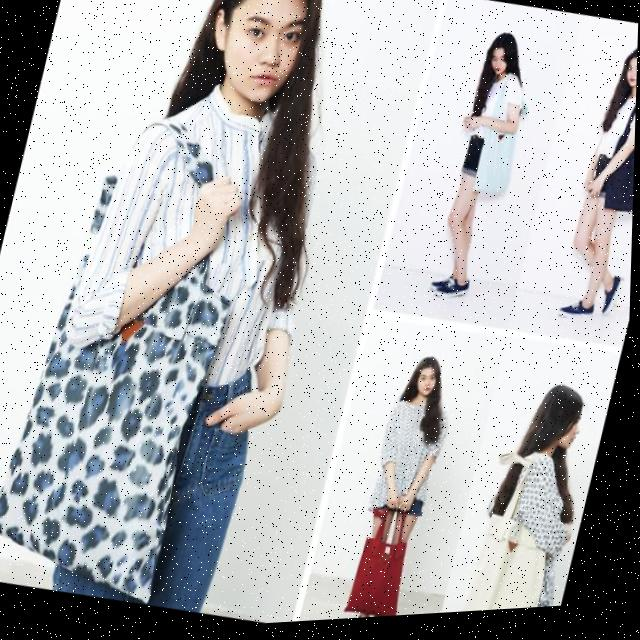ecobag: (0, 105, 284, 616)
